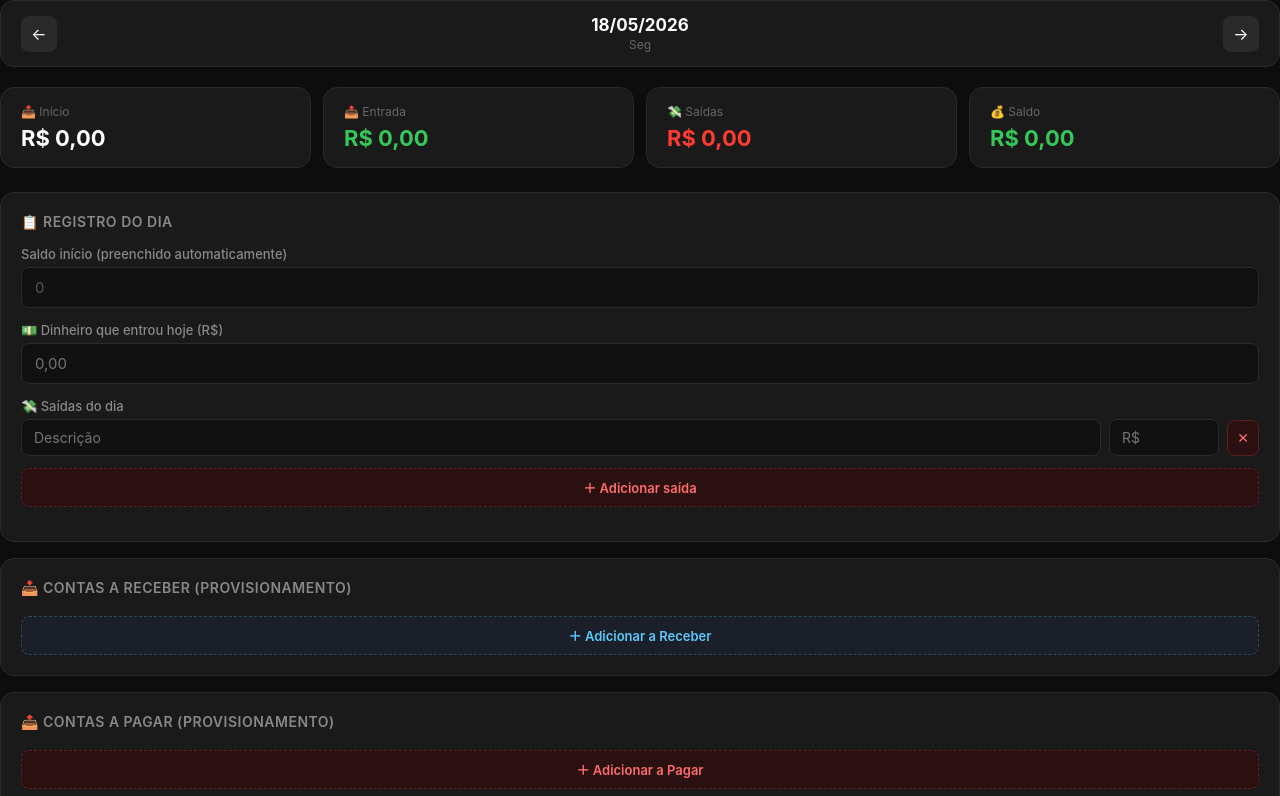
remove linha de saída ao clicar em ✕
The image size is (1280, 796).
Note: adiciona uma saída extra primeiro
Step 1. Click the button "＋ Adicionar saída" → (640, 488), box [21, 468, 1259, 507]
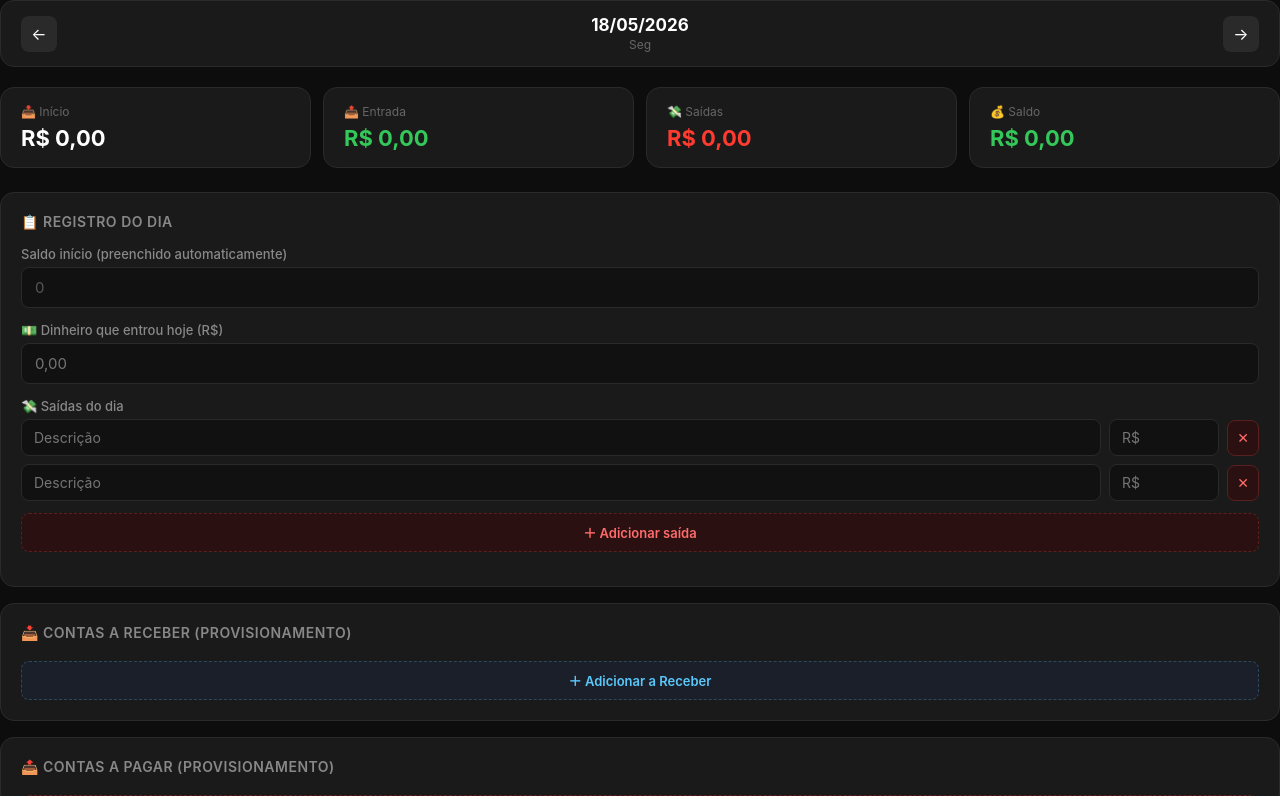
Step 2. Click the 1st button "✕" → (1243, 438), box [1227, 420, 1259, 456]
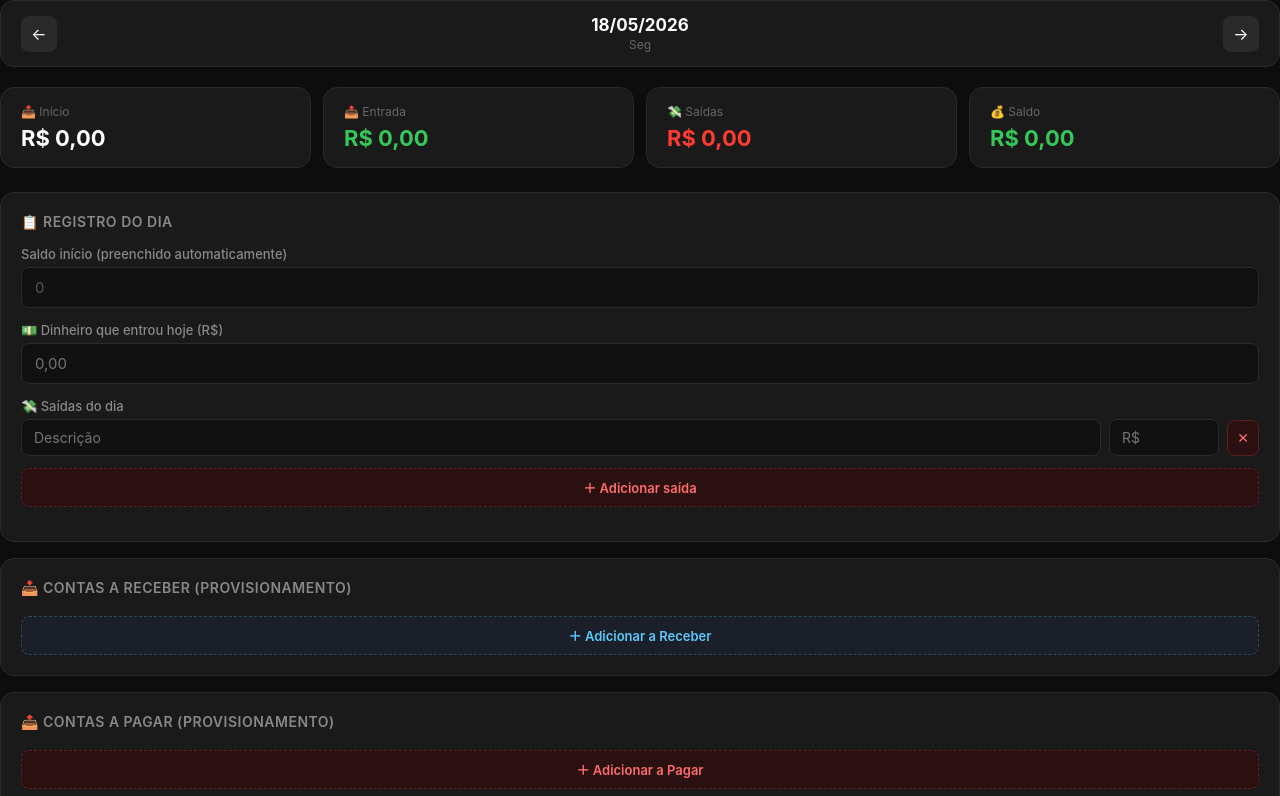
Now the number of fields with placeholder "Descrição" is 1, box [21, 419, 1101, 456]
